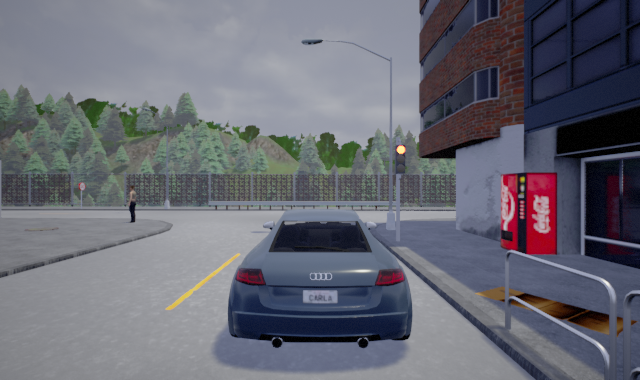pedestrian: (122, 183, 144, 222)
vehicle: (226, 208, 412, 351)
